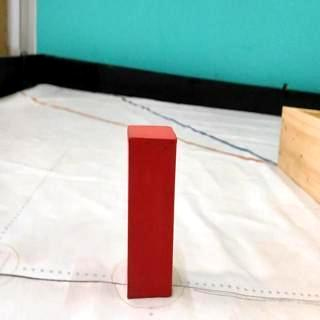redbox: (126, 124, 176, 298)
